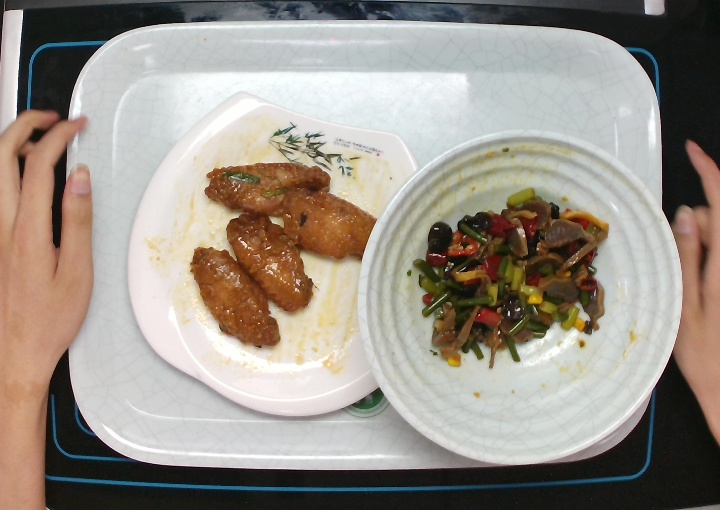JYsf-Da_Tang_Wan: (355, 127, 685, 466)
JYsf-Mian_Pan: (124, 89, 423, 418)
